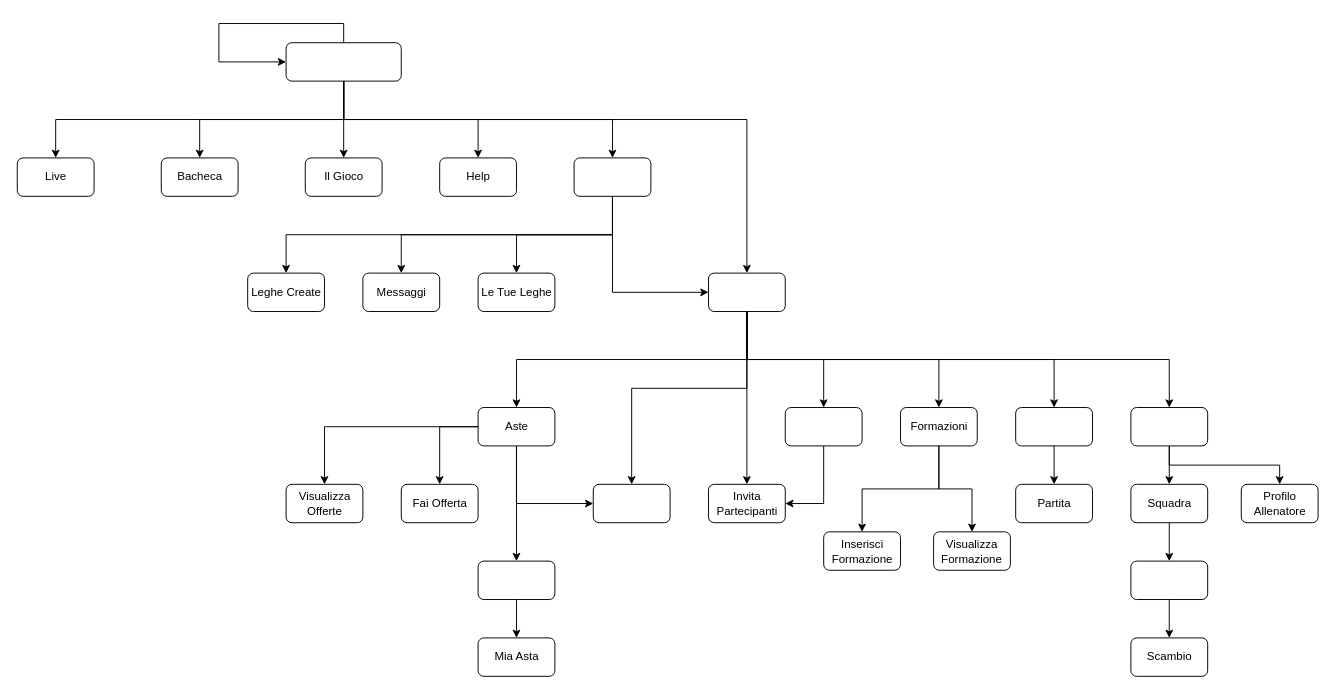
Some shapes in this 1334 by 693 pixel diagram are drawn without their labels. Here are the shapes that lost their labels. From the top down, the centre of each, then its label:
the point at 343,61: Home
the point at 612,176: Profilo
the point at 746,292: Lega
the point at 823,426: Crea Lega
the point at 1053,426: Calendario
the point at 1169,426: Classifica
the point at 631,503: Organizza Asta
the point at 516,580: Risultati Asta
the point at 1169,580: Giocatore
